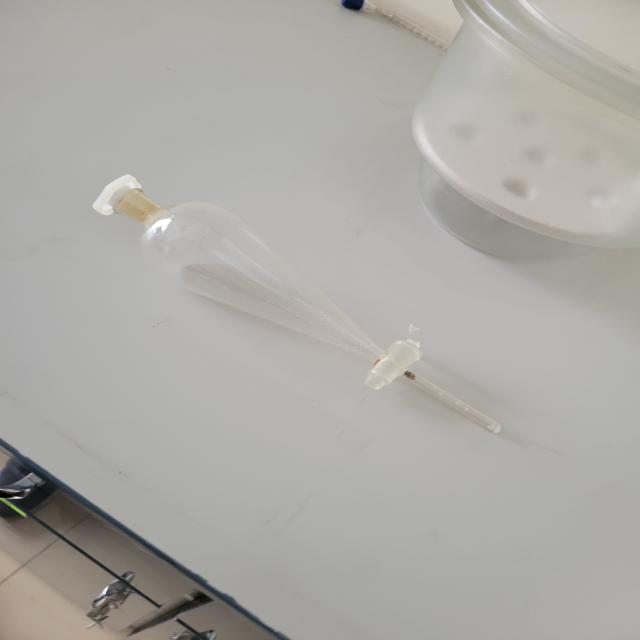Separating_Funnel: (77, 148, 536, 469)
